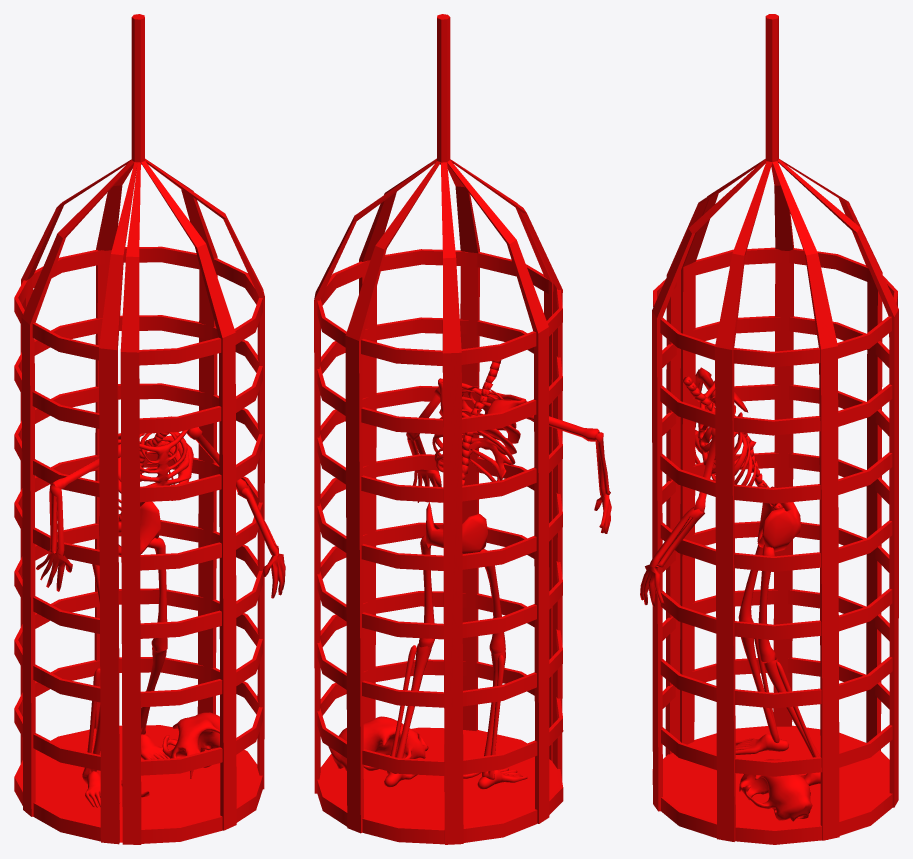
File: caged skeleton.fbx
The picture shows the model from 3 angles, left to right: view 1: azimuth 30°, elevation 25°; view 2: azimuth 150°, elevation 25°; view 3: azimuth 270°, elevation 25°; orthographic projection.
Parts seen in each view (by area): view 1: Hanging_Cage, lungsPrison, default, arm1, hipsDontLie, longPartOfLeg2, shortPartOfLeg1, pulm1, arm2, shortPartOfLeg2, pulm, topArm2; view 2: Hanging_Cage, lungsPrison, default, shortPartOfLeg2, hipsDontLie, shortPartOfLeg1, spine, longPartOfLeg1, longPartOfLeg2, topArm1, arm1; view 3: Hanging_Cage, default, hipsDontLie, lungsPrison, shortPartOfLeg1, shortPartOfLeg2, arm2, longPartOfLeg2, spine, youKilledMyFather, pulm, longPartOfLeg1 (+1 smaller).
Boxes of the visible parts, box(x1,y1,x2,y2) form: Hanging_Cage: box(14, 14, 264, 844); lungsPrison: box(118, 429, 193, 510); default: box(162, 712, 219, 778); arm1: box(49, 483, 64, 558); hipsDontLie: box(98, 501, 160, 556); longPartOfLeg2: box(148, 537, 167, 651); shortPartOfLeg1: box(82, 668, 100, 776); pulm1: box(36, 552, 72, 591); arm2: box(237, 485, 278, 555); shortPartOfLeg2: box(141, 647, 166, 734); pulm: box(262, 553, 285, 598); topArm2: box(186, 427, 248, 494); Hanging_Cage: box(314, 14, 563, 844); lungsPrison: box(432, 378, 526, 481); default: box(328, 716, 428, 770); shortPartOfLeg2: box(389, 644, 431, 773); hipsDontLie: box(426, 502, 487, 553); shortPartOfLeg1: box(482, 651, 505, 779); spine: box(462, 359, 501, 485); longPartOfLeg1: box(480, 549, 505, 653); longPartOfLeg2: box(418, 535, 434, 647); topArm1: box(526, 415, 599, 441); arm1: box(595, 432, 610, 497); Hanging_Cage: box(652, 14, 898, 844); default: box(739, 759, 812, 821); hipsDontLie: box(757, 486, 800, 552); lungsPrison: box(698, 380, 756, 485); shortPartOfLeg1: box(741, 637, 779, 742); shortPartOfLeg2: box(763, 657, 820, 757); arm2: box(649, 507, 704, 567); longPartOfLeg2: box(758, 544, 775, 662); spine: box(682, 376, 785, 510); youKilledMyFather: box(735, 733, 788, 754); pulm: box(640, 564, 664, 606); longPartOfLeg1: box(738, 545, 763, 622).
Size of the model in its own units: 39.52 by 36.68 by 121.
